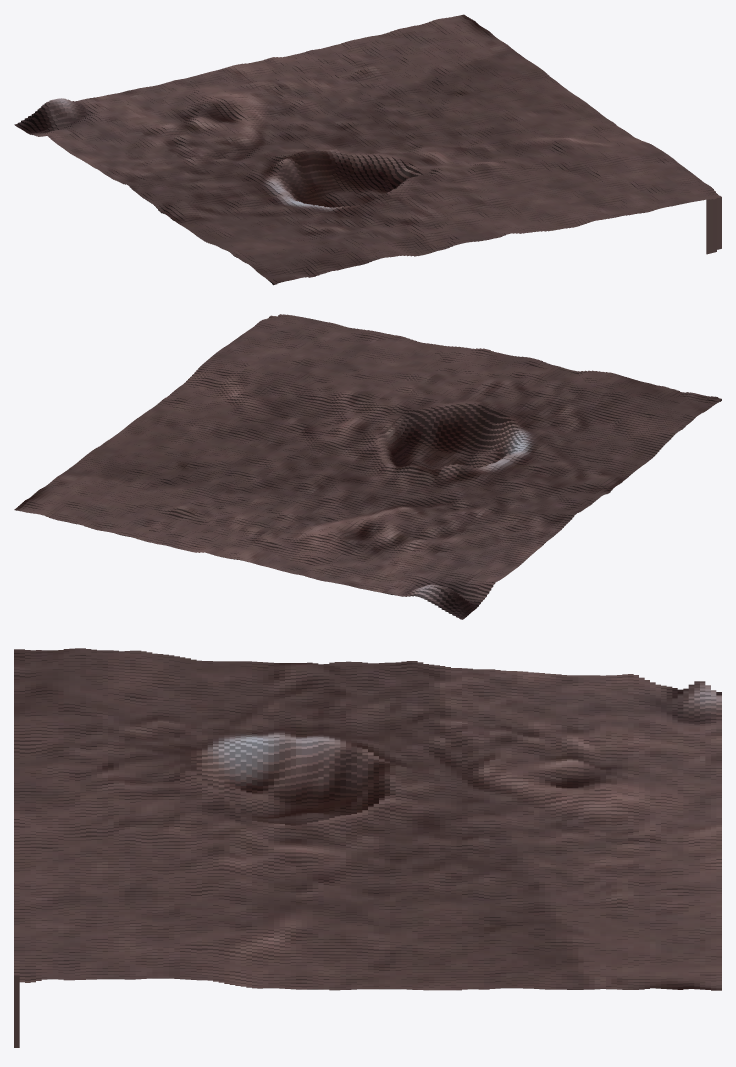
The model's file is chunk-39.glb.
3 views of the same model, one above another, from view 1: azimuth 30°, elevation 25°; view 2: azimuth 150°, elevation 25°; view 3: azimuth 270°, elevation 25° (orthographic). The views are drawn at different scales.
Parts seen in each view (by area): view 1: Mesh_0.055; view 2: Mesh_0.055; view 3: Mesh_0.055.
Boxes of the visible parts, x1,y1,x2,y2 form: Mesh_0.055: [14, 14, 721, 285]; Mesh_0.055: [14, 314, 721, 619]; Mesh_0.055: [14, 648, 721, 1047].
Bounding box in the file's own units: 32000 × 5274 × 32000.
